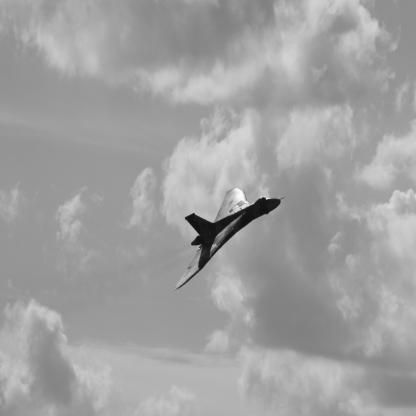Vulcan: (174, 189, 287, 293)
